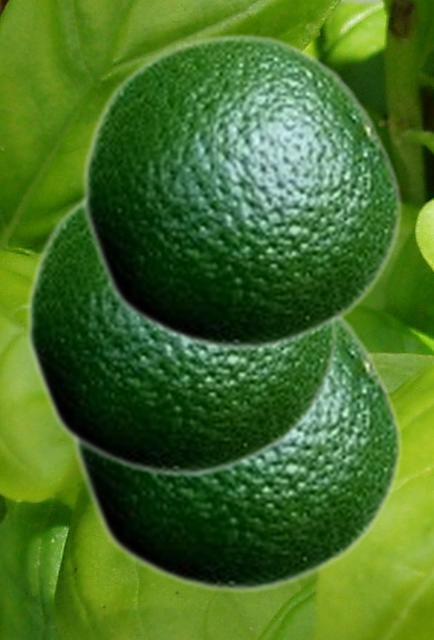calamansi: (80, 32, 403, 352), (71, 316, 403, 594), (24, 195, 338, 478)
